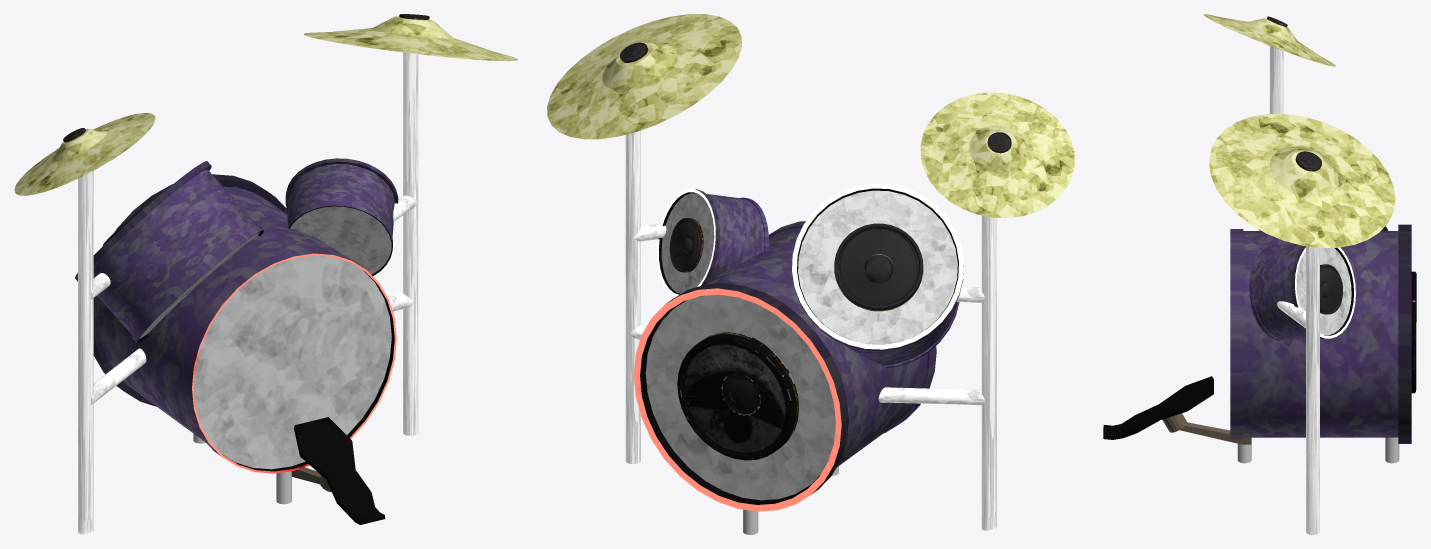
The model's file is Drums.glb.
3 views of the same model, side by side, from view 1: azimuth 30°, elevation 25°; view 2: azimuth 150°, elevation 25°; view 3: azimuth 270°, elevation 25° (orthographic). The views are drawn at different scales.
Visible parts, largest first — view 1: tomb.LP.008final; view 2: tomb.LP.008final; view 3: tomb.LP.008final.
Boxes of the visible parts, x1,y1,x2,y2 form: tomb.LP.008final: (14, 14, 518, 534); tomb.LP.008final: (547, 14, 1074, 534); tomb.LP.008final: (1103, 14, 1416, 534).
Size of the model in its own units: 4.97 by 4.08 by 3.03.
Materials: 7 (6 with a texture image).
